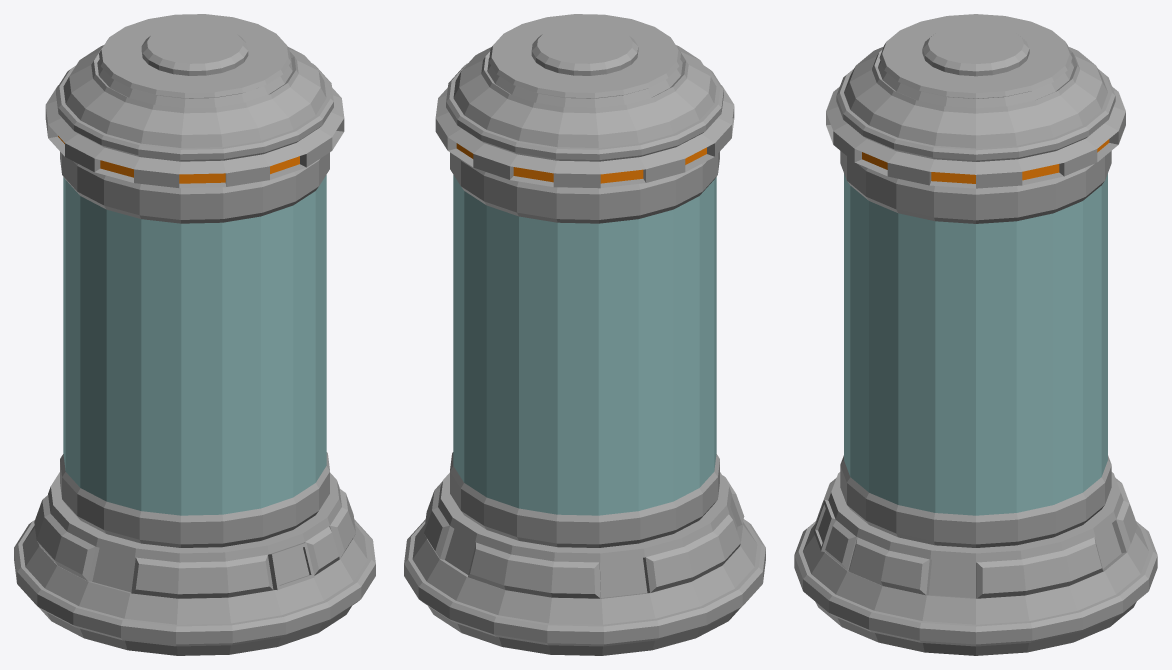
3 renders of one model, left to right at view 1: azimuth 30°, elevation 25°; view 2: azimuth 150°, elevation 25°; view 3: azimuth 270°, elevation 25°, orthographic.
Parts seen in each view (by area): view 1: pCylinder13; view 2: pCylinder13; view 3: pCylinder13.
Boxes of the visible parts, x1,y1,x2,y2 form: pCylinder13: (14,14,375,655); pCylinder13: (404,14,765,655); pCylinder13: (794,14,1157,655).
Size of the model in its own units: 3.33 by 5.47 by 3.33.
